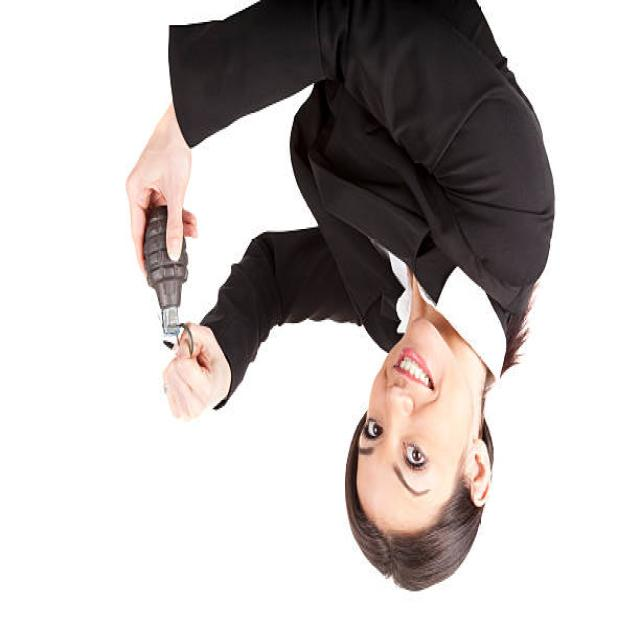grenade: (143, 206, 198, 357)
